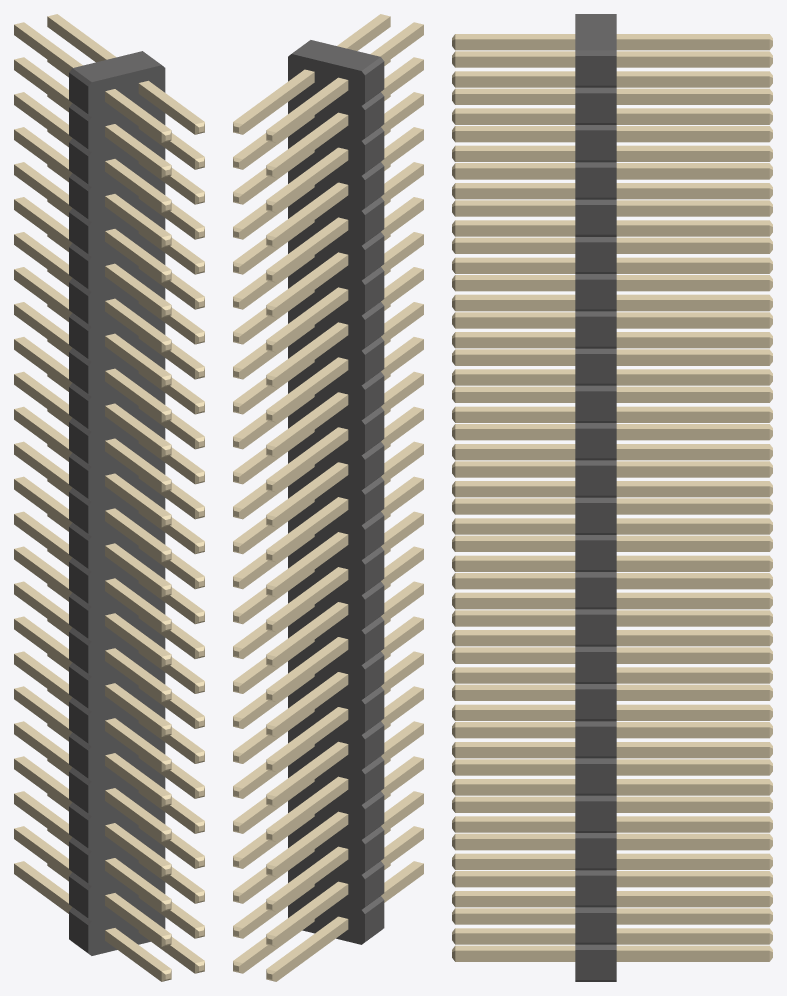
The model's file is PinHeader_2x25_P1.00mm_Vertical.glb.
The picture shows the model from 3 angles, left to right: view 1: azimuth 30°, elevation 25°; view 2: azimuth 150°, elevation 25°; view 3: azimuth 270°, elevation 25°; orthographic projection. The views are drawn at different scales.
Visible parts, largest first — view 1: Shape_IndexedFaceSet.003, Shape_IndexedFaceSet.001, Shape_IndexedFaceSet.195, Shape_IndexedFaceSet.289, Shape_IndexedFaceSet.310, Shape_IndexedFaceSet.154, Shape_IndexedFaceSet.158, Shape_IndexedFaceSet.163, Shape_IndexedFaceSet.166, Shape_IndexedFaceSet.171, Shape_IndexedFaceSet.174, Shape_IndexedFaceSet.179 (+119 smaller); view 2: Shape_IndexedFaceSet.004, Shape_IndexedFaceSet.001, Shape_IndexedFaceSet.395, Shape_IndexedFaceSet.489, Shape_IndexedFaceSet.453, Shape_IndexedFaceSet.494, Shape_IndexedFaceSet.510, Shape_IndexedFaceSet.539, Shape_IndexedFaceSet.458, Shape_IndexedFaceSet.462, Shape_IndexedFaceSet.474, Shape_IndexedFaceSet.490 (+118 smaller); view 3: Shape_IndexedFaceSet.376, Shape_IndexedFaceSet.397, Shape_IndexedFaceSet.400, Shape_IndexedFaceSet.427, Shape_IndexedFaceSet.436, Shape_IndexedFaceSet.484, Shape_IndexedFaceSet.492, Shape_IndexedFaceSet.500, Shape_IndexedFaceSet.512, Shape_IndexedFaceSet.541, Shape_IndexedFaceSet.356, Shape_IndexedFaceSet.360 (+208 smaller).
Boxes of the visible parts, x1,y1,x2,y2 form: Shape_IndexedFaceSet.003: (88, 65, 165, 955); Shape_IndexedFaceSet.001: (73, 51, 161, 81); Shape_IndexedFaceSet.195: (105, 266, 161, 317); Shape_IndexedFaceSet.289: (105, 616, 161, 666); Shape_IndexedFaceSet.310: (105, 930, 161, 981); Shape_IndexedFaceSet.154: (105, 511, 161, 562); Shape_IndexedFaceSet.158: (105, 476, 161, 527); Shape_IndexedFaceSet.163: (105, 441, 161, 492); Shape_IndexedFaceSet.166: (105, 336, 161, 387); Shape_IndexedFaceSet.171: (105, 371, 161, 422); Shape_IndexedFaceSet.174: (105, 406, 161, 457); Shape_IndexedFaceSet.179: (105, 161, 161, 212); Shape_IndexedFaceSet.004: (288, 54, 364, 944); Shape_IndexedFaceSet.001: (292, 40, 380, 70); Shape_IndexedFaceSet.395: (276, 255, 348, 317); Shape_IndexedFaceSet.489: (276, 604, 348, 666); Shape_IndexedFaceSet.453: (276, 569, 348, 632); Shape_IndexedFaceSet.494: (276, 744, 348, 806); Shape_IndexedFaceSet.510: (276, 919, 348, 981); Shape_IndexedFaceSet.539: (276, 115, 348, 177); Shape_IndexedFaceSet.458: (276, 709, 348, 771); Shape_IndexedFaceSet.462: (276, 674, 348, 736); Shape_IndexedFaceSet.474: (276, 639, 348, 701); Shape_IndexedFaceSet.490: (276, 779, 348, 841); Shape_IndexedFaceSet.376: (616, 374, 769, 385); Shape_IndexedFaceSet.397: (616, 225, 769, 236); Shape_IndexedFaceSet.400: (616, 168, 769, 179); Shape_IndexedFaceSet.427: (616, 317, 769, 328); Shape_IndexedFaceSet.436: (616, 466, 769, 477); Shape_IndexedFaceSet.484: (616, 615, 769, 626); Shape_IndexedFaceSet.492: (616, 784, 769, 795); Shape_IndexedFaceSet.500: (616, 764, 769, 775); Shape_IndexedFaceSet.512: (616, 933, 769, 944); Shape_IndexedFaceSet.541: (616, 76, 769, 87); Shape_IndexedFaceSet.356: (616, 486, 769, 497); Shape_IndexedFaceSet.360: (616, 449, 769, 460).
Size of the model in its own units: 0.906 by 9.84 by 3.07.
